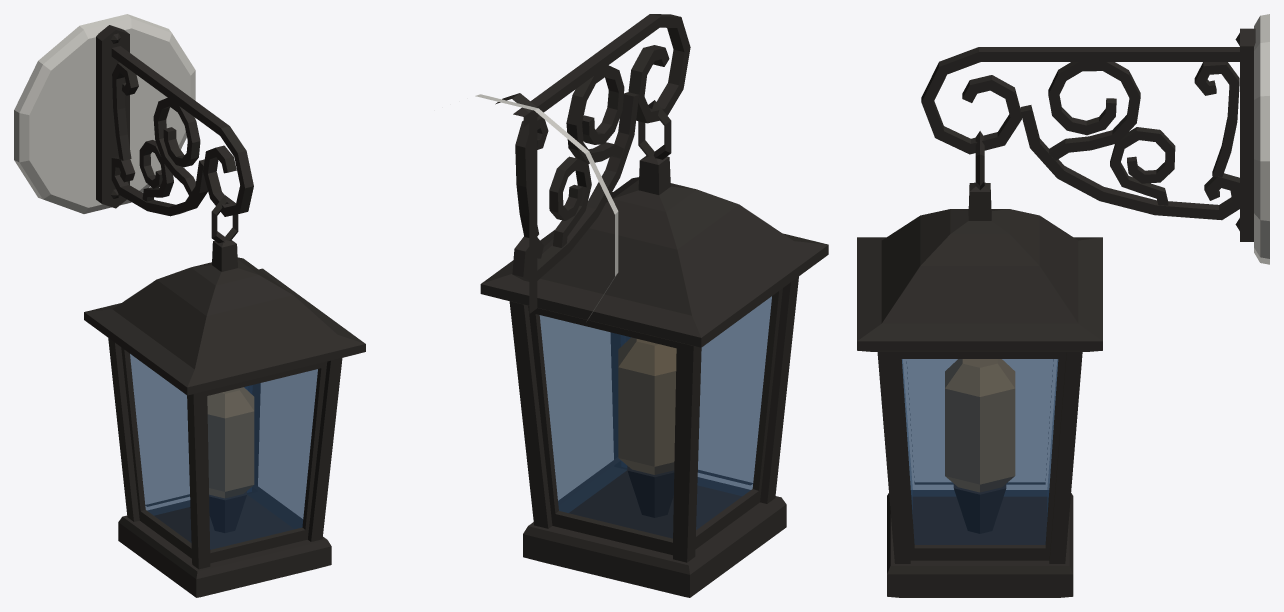
Rendered from wall-lantern-abf2b1.glb.
3 views of the same model, side by side, from view 1: azimuth 30°, elevation 25°; view 2: azimuth 150°, elevation 25°; view 3: azimuth 270°, elevation 25° (orthographic). The views are drawn at different scales.
Visible parts, largest first — view 1: lantern-body, bracket, lantern-glass; view 2: lantern-body, lantern-glass, bracket; view 3: lantern-body, bracket, lantern-glass.
Boxes of the visible parts, x1,y1,x2,y2 form: lantern-body: (84,195,365,597); bracket: (14,14,253,216); lantern-glass: (130,354,317,549); lantern-body: (480,100,828,597); lantern-glass: (539,296,771,538); bracket: (475,14,690,321); lantern-body: (857,131,1102,597); bracket: (921,14,1269,264); lantern-glass: (902,359,1058,544).
Bounding box in the file's own units: 0.2801 × 0.7004 × 0.47.
